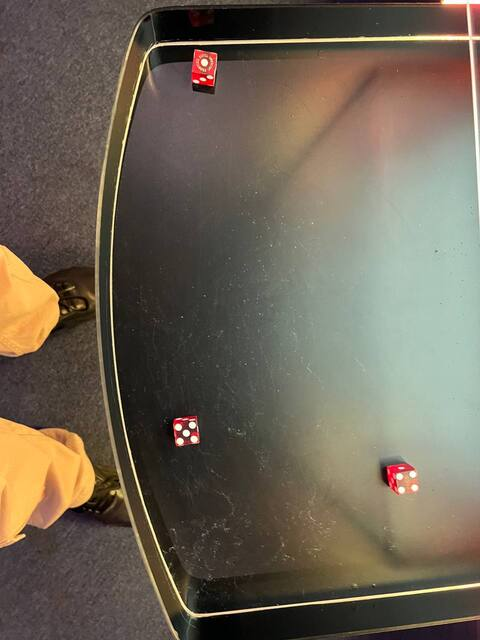five: (170, 418, 200, 449)
four: (392, 467, 421, 499)
one: (191, 48, 218, 78)
